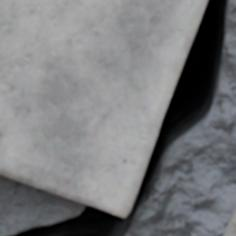brick: (0, 0, 206, 216), (225, 210, 235, 235)
crack: (0, 0, 235, 235)
